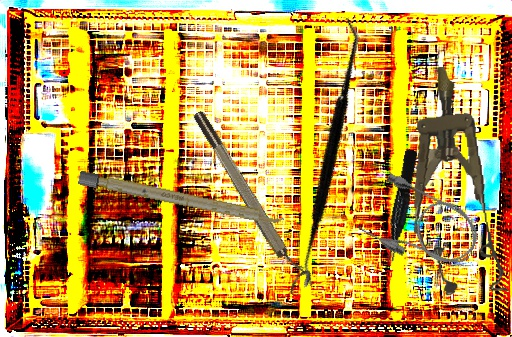Cannula: (354, 169, 488, 282)
Fixation Ring: (189, 103, 316, 296)
Scalpel Handle: (77, 170, 286, 228)
Spatula Surgical: (220, 16, 437, 288)
Speculum: (397, 61, 510, 301)
Tissue Forceps: (378, 148, 423, 264)
